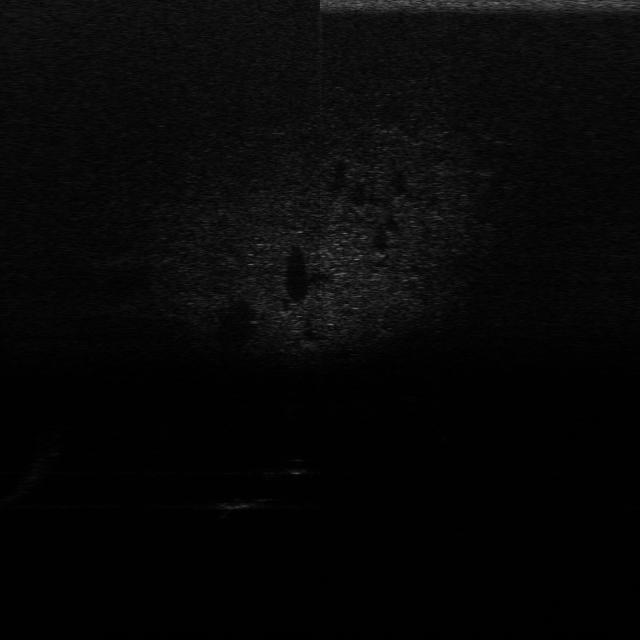ball: (282, 455, 314, 477)
square cage: (212, 494, 273, 514)
